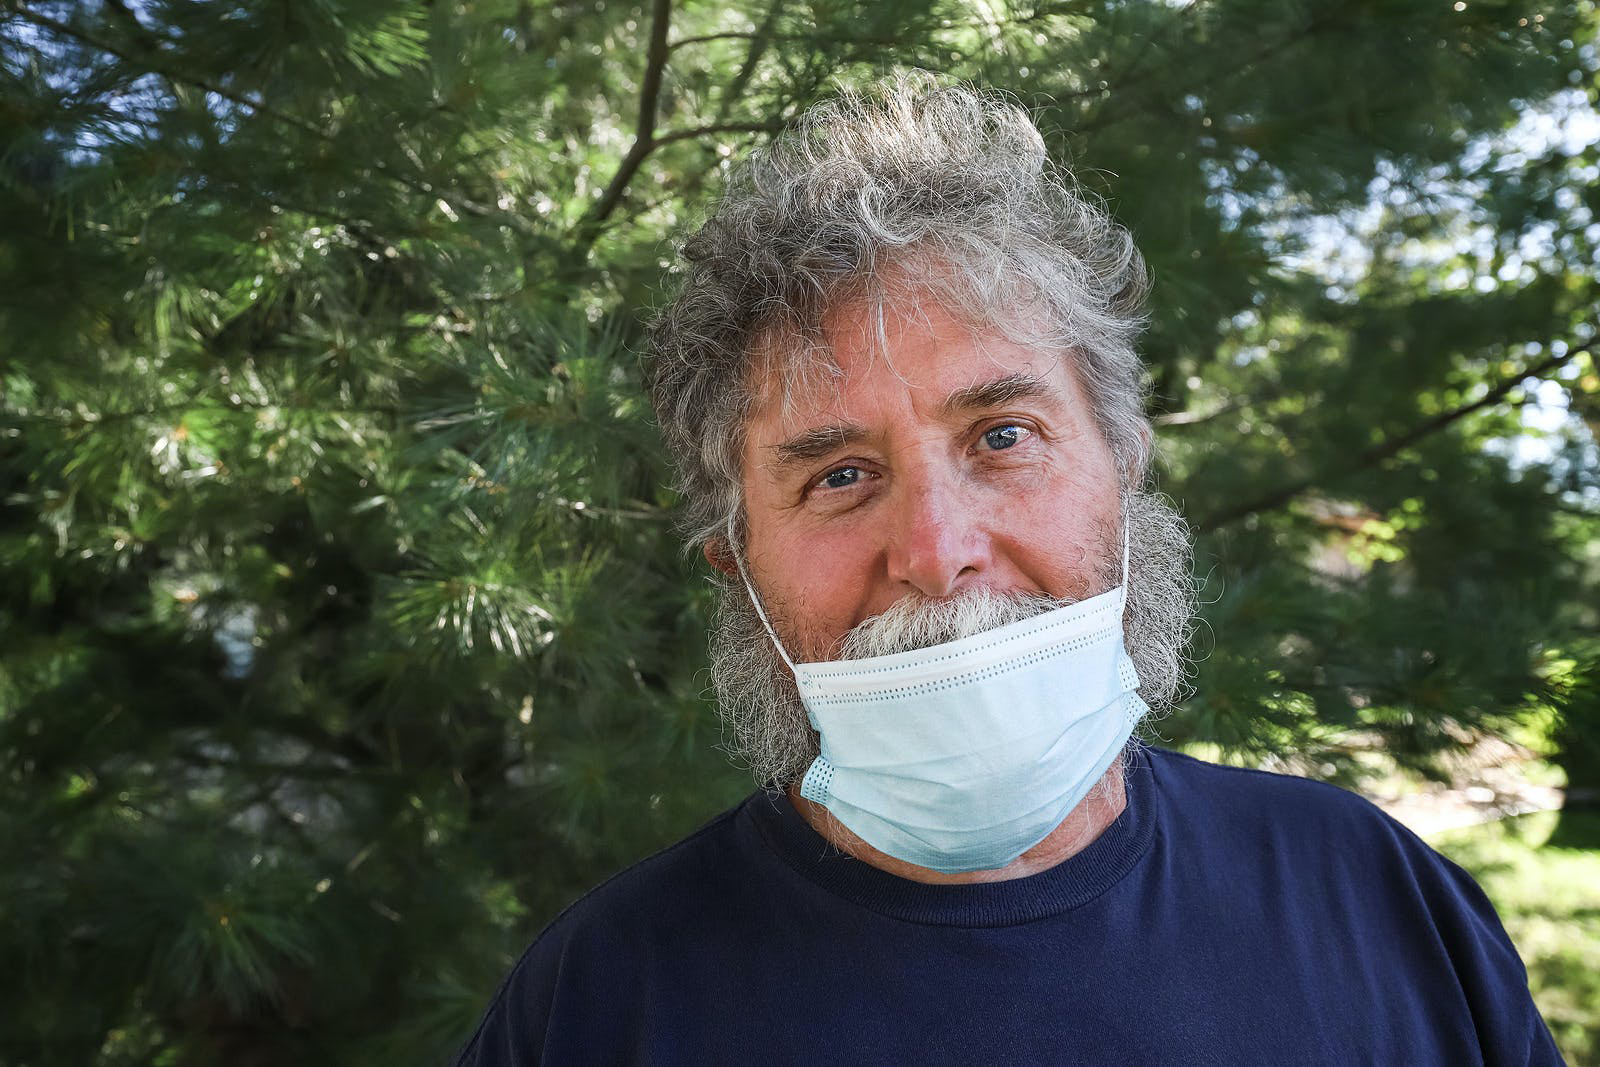mask_weared_incorrect: (747, 354, 1147, 873)
